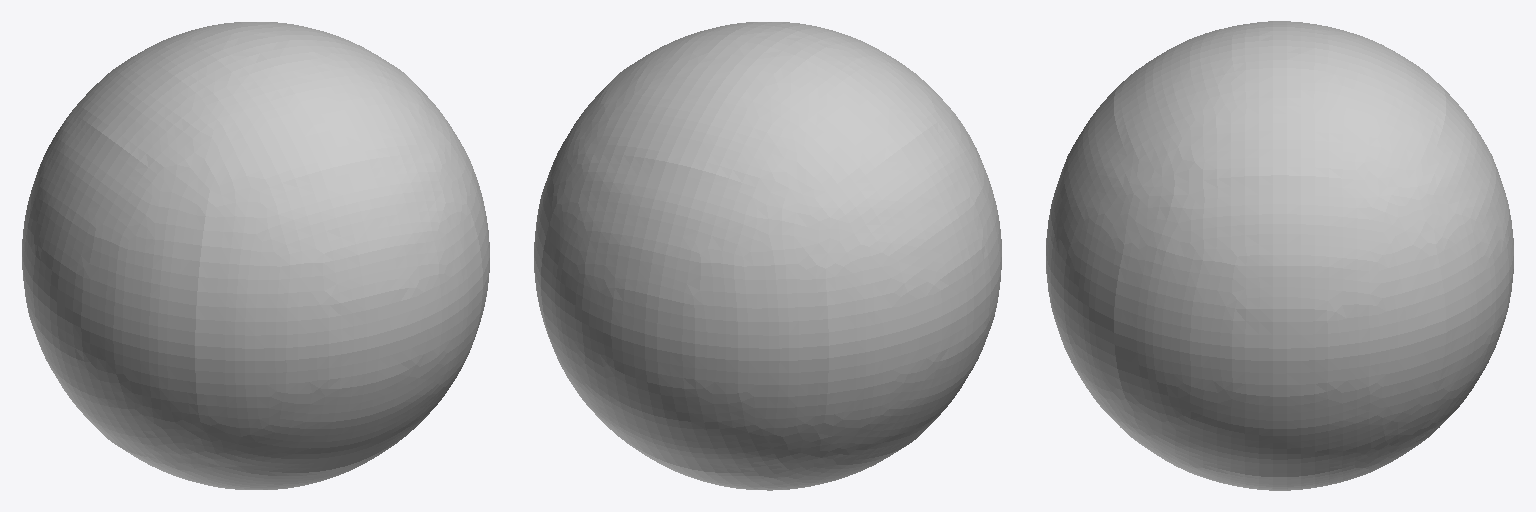
3 views of the same model, side by side, from view 1: azimuth 30°, elevation 25°; view 2: azimuth 150°, elevation 25°; view 3: azimuth 270°, elevation 25° (orthographic).
Parts seen in each view (by area): view 1: 球体; view 2: 球体; view 3: 球体.
Boxes of the visible parts, box(x1,y1,x2,y2) form: 球体: box(22, 22, 489, 489); 球体: box(534, 22, 1001, 490); 球体: box(1046, 21, 1513, 490).
Bounding box in the file's own units: 1.98 × 1.99 × 1.98.